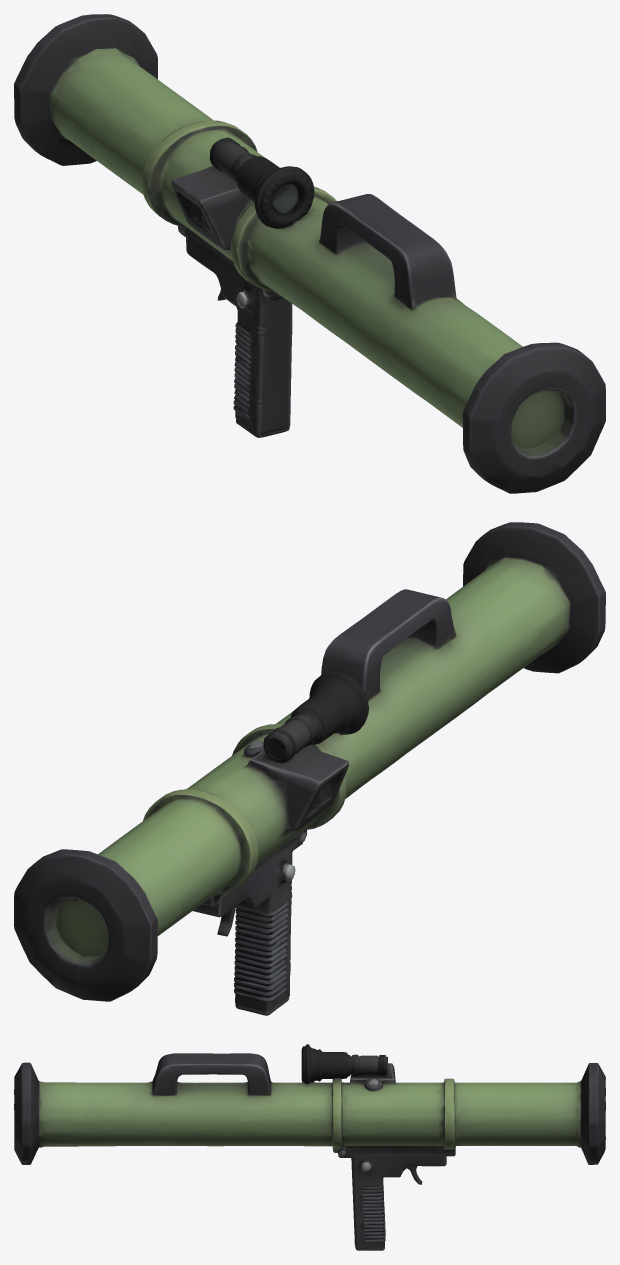
3 renders of one model, top to bottom at view 1: azimuth 30°, elevation 25°; view 2: azimuth 150°, elevation 25°; view 3: azimuth 270°, elevation 25°, orthographic. The views are drawn at different scales.
Parts seen in each view (by area): view 1: tripo_node_db6ddead-8227-4b33-ba0a-6f3a86db94c6; view 2: tripo_node_db6ddead-8227-4b33-ba0a-6f3a86db94c6; view 3: tripo_node_db6ddead-8227-4b33-ba0a-6f3a86db94c6.
Part boxes in pixels (<box>): tripo_node_db6ddead-8227-4b33-ba0a-6f3a86db94c6: <box>14,14,605,493</box>; tripo_node_db6ddead-8227-4b33-ba0a-6f3a86db94c6: <box>14,522,605,1015</box>; tripo_node_db6ddead-8227-4b33-ba0a-6f3a86db94c6: <box>14,1044,605,1250</box>.
Bounding box in the file's own units: 0.1593 × 0.3206 × 0.9.
Materials: 1 (1 with a texture image).
